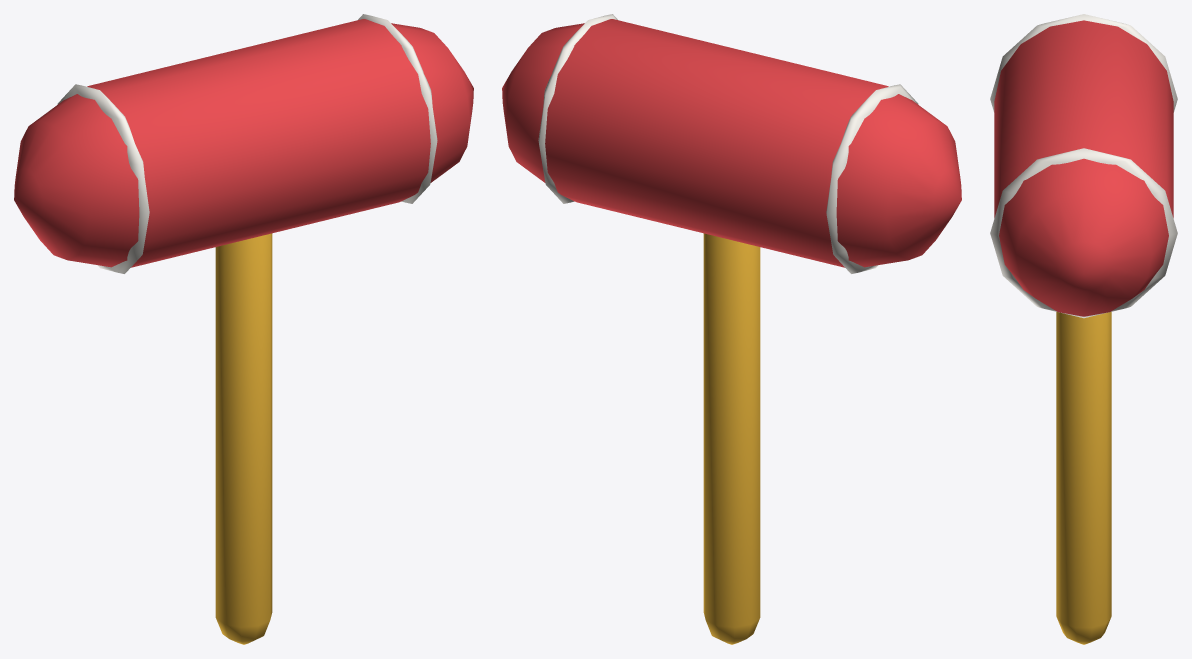
File: hand_hammer.glb
The picture shows the model from 3 angles, left to right: view 1: azimuth 30°, elevation 25°; view 2: azimuth 150°, elevation 25°; view 3: azimuth 270°, elevation 25°; orthographic projection. The views are drawn at different scales.
Visible parts, largest first — view 1: hand_hammer; view 2: hand_hammer; view 3: hand_hammer.
Part boxes in pixels (x1,y1,x2,y2): hand_hammer: (14, 14, 473, 644); hand_hammer: (502, 14, 961, 644); hand_hammer: (990, 14, 1177, 644).
Size of the model in its own units: 0.3677 by 0.4507 by 0.136.
